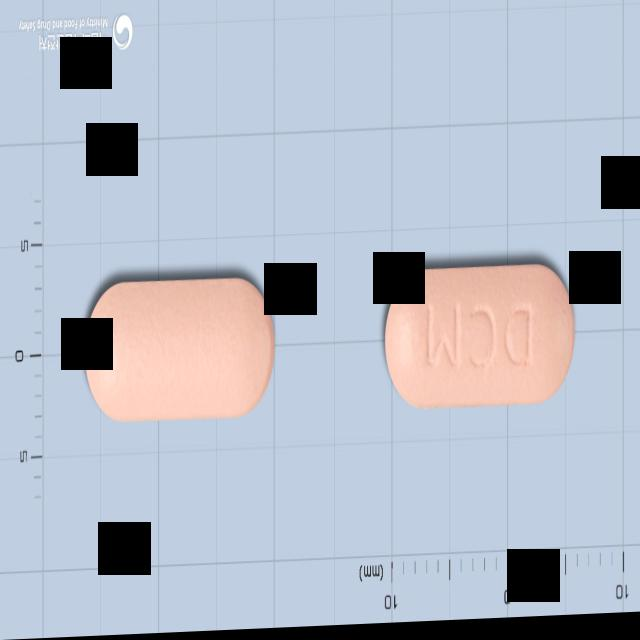Dongkoo Levofloxacin Hydrate Tab-500mg: (84, 278, 276, 427), (383, 267, 574, 416)
